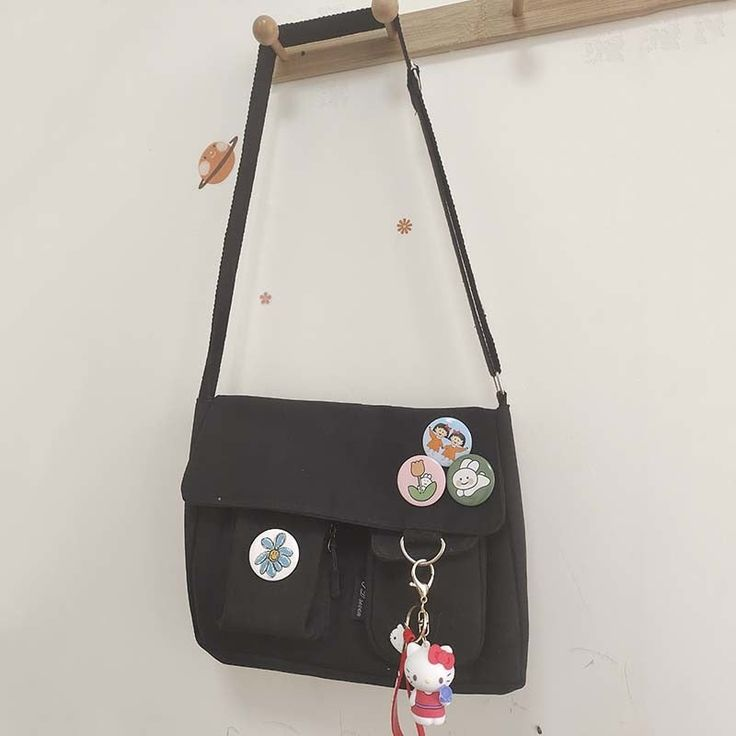nylon: (181, 5, 530, 696)
